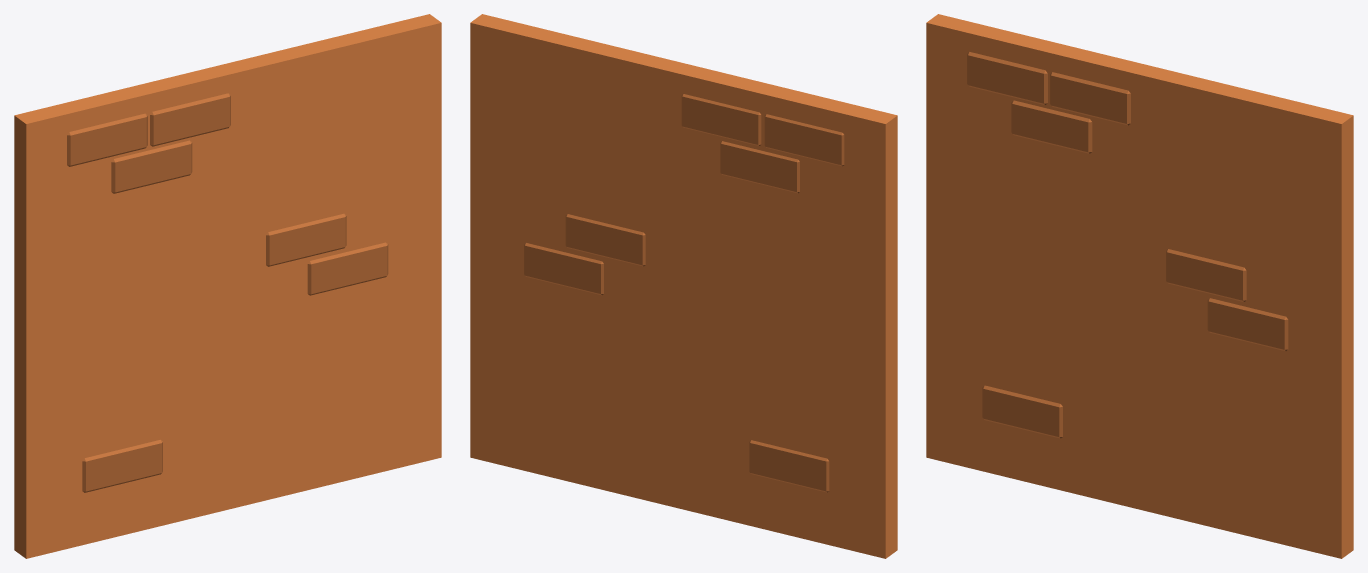
Rendered from wall1.fbx.
3 views of the same model, side by side, from view 1: azimuth 30°, elevation 25°; view 2: azimuth 150°, elevation 25°; view 3: azimuth 330°, elevation 25° (orthographic).
Visible parts, largest first — view 1: Wall - Blank.001; view 2: Wall - Blank.001; view 3: Wall - Blank.001.
Boxes of the visible parts, bbox=[...] form: Wall - Blank.001: bbox=[14, 14, 441, 558]; Wall - Blank.001: bbox=[470, 14, 897, 558]; Wall - Blank.001: bbox=[926, 14, 1353, 558].
Size of the model in its own units: 400 by 24.2 by 400.
